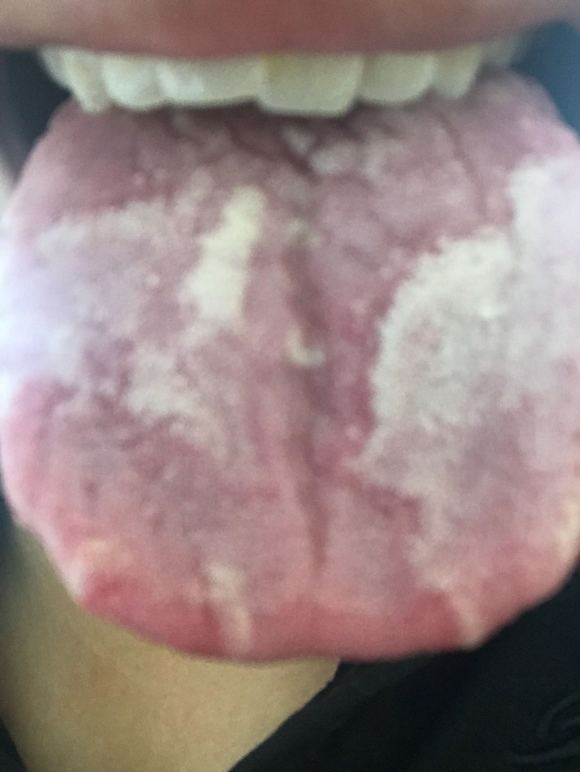baitaishe: (3, 67, 580, 664)
botaishe: (334, 130, 580, 647), (7, 165, 281, 443), (60, 523, 252, 651)
liewenshe: (129, 92, 475, 204)
